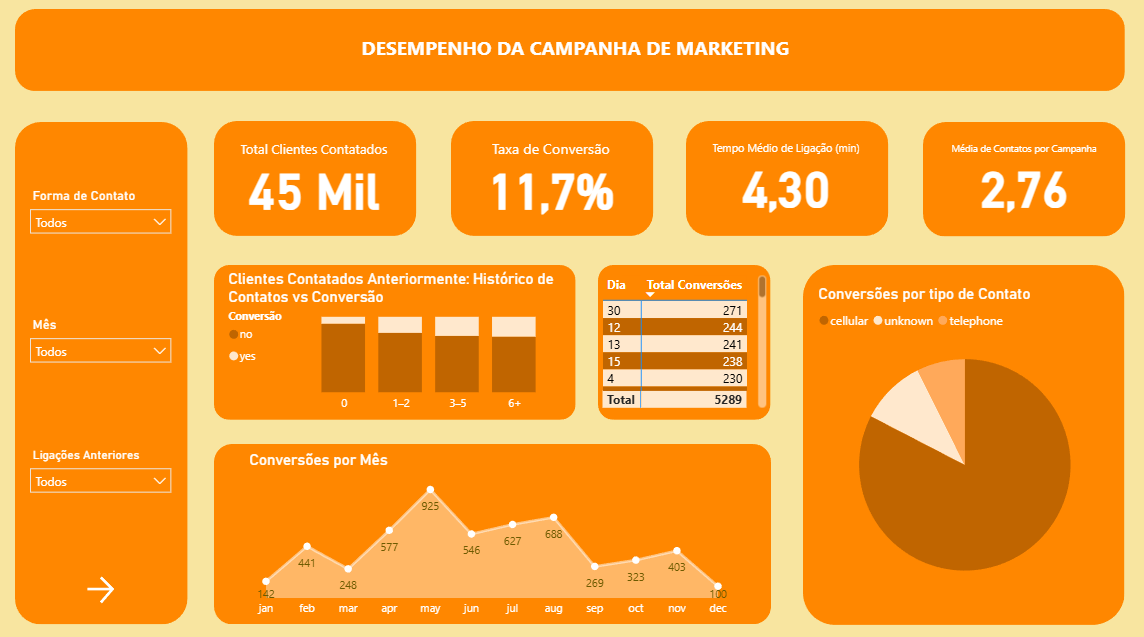

The page's visual inventory and layout, read from the dashboard file:
{"tool":"powerbi","page":{"name":"Resultado da Campanha","canvas":[1280,720],"ordinal":0},"visuals":[{"type":"shape","box":[17.7,11.5,1233.4,91.3],"z":0},{"type":"shape","box":[1027.1,136.2,224.7,127.4],"z":1000},{"type":"shape","box":[763.3,135.9,224.7,127.7],"z":2000},{"type":"shape","box":[502,135.9,224.7,127.7],"z":3000},{"type":"shape","box":[238.7,135.9,224.7,127.7],"z":4000},{"type":"shape","box":[17.5,136.2,191.6,558.3],"z":5000},{"type":"actionButton","box":[92.2,636.7,42.6,39.9],"z":6000},{"type":"shape","box":[238.5,494.8,618.9,200.4],"z":8000},{"type":"lineChart","title":"Conversões por Mês","fields":{"Category":["MonthTable.month"],"Y":["Sum(bank-full.Total Yes)"]},"box":[273.1,501.9,548.9,193.3],"z":9000},{"type":"shape","box":[893.8,295.3,357.3,399.9],"z":10000},{"type":"pieChart","title":"Conversões por tipo de Contato","fields":{"Category":["bank-full.contact"],"Y":["Sum(bank-full.Total Yes)"]},"box":[905.3,318.3,335.2,352],"z":11000},{"type":"cardVisual","fields":{"Data":["bank-full.Clientes Contatados Anteriormente"]},"box":[244.7,136.6,211.9,126.8],"z":12000},{"type":"shape","box":[238.5,295.3,401.7,172],"z":13000},{"type":"cardVisual","fields":{"Data":["bank-full.Média de Contatos por Campanha"]},"box":[1033,136.6,211.9,126.8],"z":14000},{"type":"cardVisual","fields":{"Data":["bank-full.Duracao Média Ligação"]},"box":[768.8,135.7,211.9,127.7],"z":15000},{"type":"cardVisual","fields":{"Data":["bank-full.Taxa Conversao"]},"box":[508.1,136.6,211.9,126.8],"z":16000},{"type":"hundredPercentStackedColumnChart","title":"Clientes Contatados Anteriormente: Histórico de Contatos vs Conversão","fields":{"Category":["bank-full.Previous_Faixa"],"Y":["bank-full.Total Clientes Contatados"],"Series":["bank-full.y"]},"box":[250,301.5,378.6,165.8],"z":17000},{"type":"slicer","fields":{"Values":["bank-full.contact"]},"box":[24.6,206.1,176.8,67.1],"z":18000},{"type":"shape","box":[665.9,295.3,191.5,172],"z":19000},{"type":"pivotTable","fields":{"Rows":["bank-full.day"],"Values":["Sum(bank-full.Total Yes)"]},"box":[665.9,302.4,191.5,156.9],"z":20000},{"type":"slicer","fields":{"Values":["MonthTable.month"]},"box":[24.6,348.8,176.8,64.3],"z":21000},{"type":"slicer","fields":{"Values":["bank-full.Previous_Faixa"]},"box":[24.6,494.4,176.8,66.2],"z":22000},{"type":"textbox","box":[391.9,34.6,496.6,46.1],"z":22001}]}

Visuals, with their boxes in screenshot pixels (x1, y1, x2, y2), scaled from the page's 1280x720 canvas onto the 1144x637 screenshot:
shape: (x1=16, y1=10, x2=1118, y2=91)
shape: (x1=918, y1=120, x2=1119, y2=233)
shape: (x1=682, y1=120, x2=883, y2=233)
shape: (x1=449, y1=120, x2=649, y2=233)
shape: (x1=213, y1=120, x2=414, y2=233)
shape: (x1=16, y1=120, x2=187, y2=614)
actionButton: (x1=82, y1=563, x2=120, y2=599)
shape: (x1=213, y1=438, x2=766, y2=615)
"Conversões por Mês" lineChart: (x1=244, y1=444, x2=735, y2=615)
shape: (x1=799, y1=261, x2=1118, y2=615)
"Conversões por tipo de Contato" pieChart: (x1=809, y1=282, x2=1109, y2=593)
cardVisual - bank-full.Clientes Contatados Anteriormente: (x1=219, y1=121, x2=408, y2=233)
shape: (x1=213, y1=261, x2=572, y2=413)
cardVisual - bank-full.Média de Contatos por Campanha: (x1=923, y1=121, x2=1113, y2=233)
cardVisual - bank-full.Duracao Média Ligação: (x1=687, y1=120, x2=877, y2=233)
cardVisual - bank-full.Taxa Conversao: (x1=454, y1=121, x2=644, y2=233)
"Clientes Contatados Anteriormente: Histórico de Contatos vs Conversão" hundredPercentStackedColumnChart: (x1=223, y1=267, x2=562, y2=413)
slicer - bank-full.contact: (x1=22, y1=182, x2=180, y2=242)
shape: (x1=595, y1=261, x2=766, y2=413)
pivotTable - bank-full.day x Sum(bank-full.Total Yes): (x1=595, y1=268, x2=766, y2=406)
slicer - MonthTable.month: (x1=22, y1=309, x2=180, y2=365)
slicer - bank-full.Previous_Faixa: (x1=22, y1=437, x2=180, y2=496)
textbox: (x1=350, y1=31, x2=794, y2=71)
